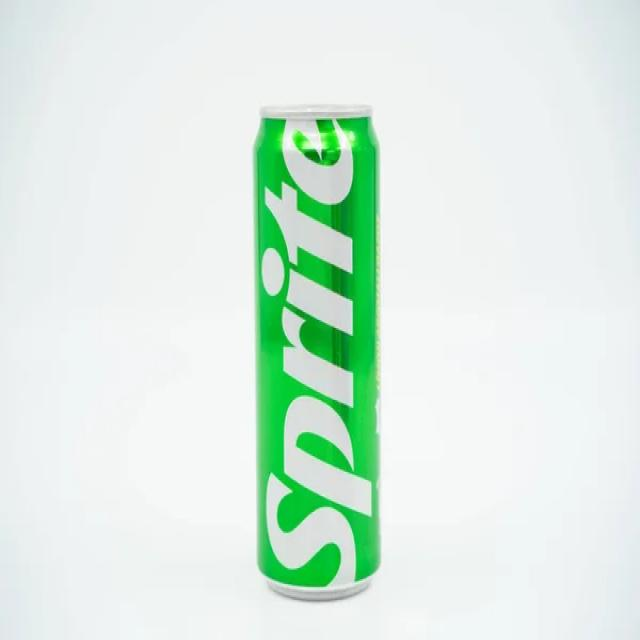sprite: (242, 103, 421, 605)
